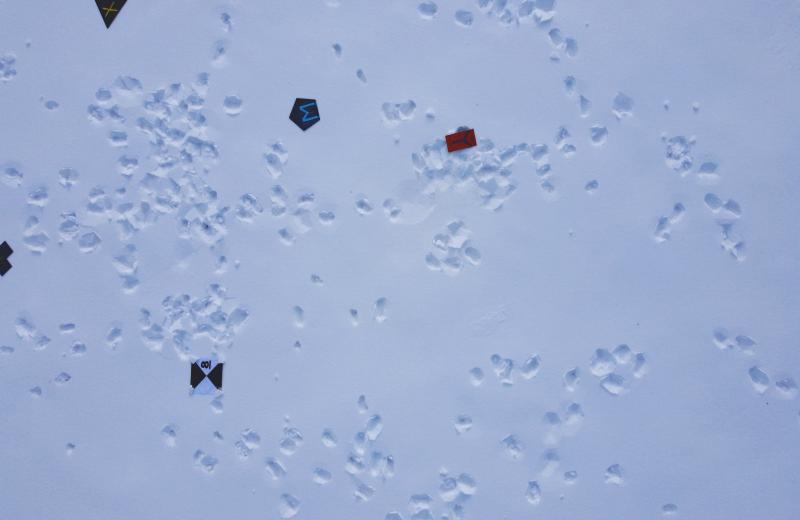Cross: (0, 238, 15, 282)
Pentagon: (288, 94, 322, 135)
Rectangle: (444, 126, 479, 154)
Triangle: (91, 0, 129, 33)
